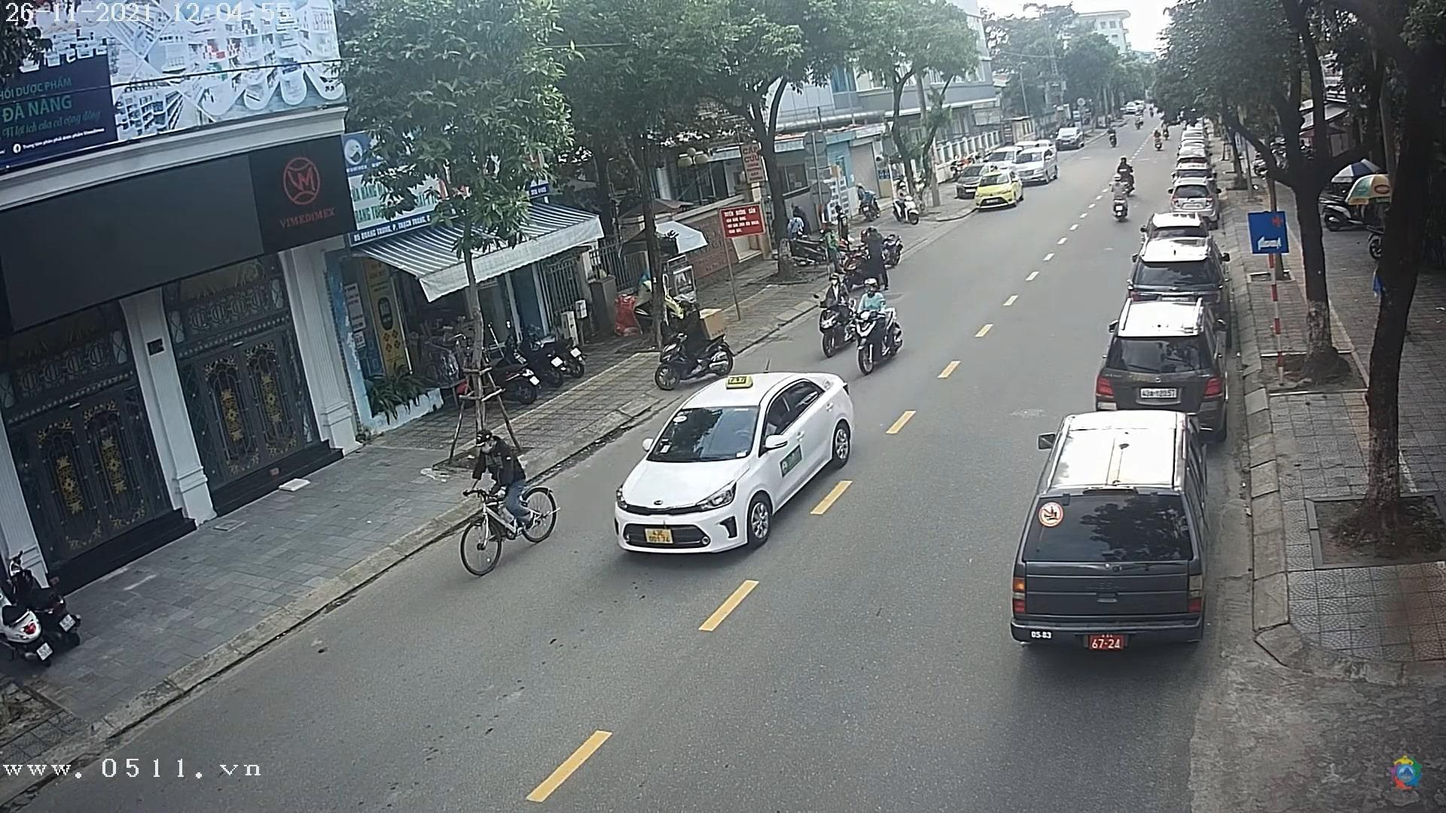car: (1014, 413, 1206, 649), (612, 373, 855, 556), (1096, 297, 1227, 426), (1133, 235, 1224, 290), (1167, 164, 1213, 190), (1169, 186, 1214, 212), (1057, 125, 1088, 149)
motorbike: (852, 307, 909, 375), (818, 302, 854, 361)
